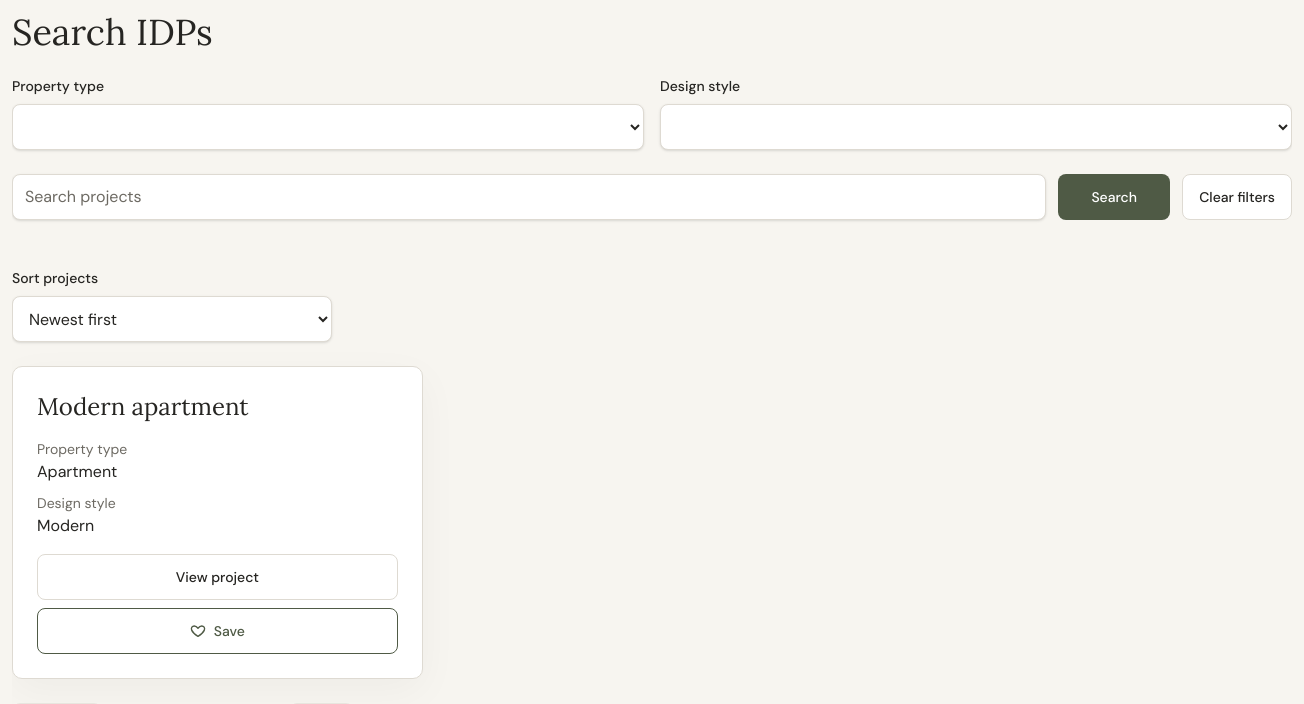
Test: every project card can be saved, and the card shows Saved afterwards
The width and height of the screenshot is (1304, 704).
Click the button with aria-label "Save Modern apartment to shortlist" at point(217, 631), box [37,608,398,654]
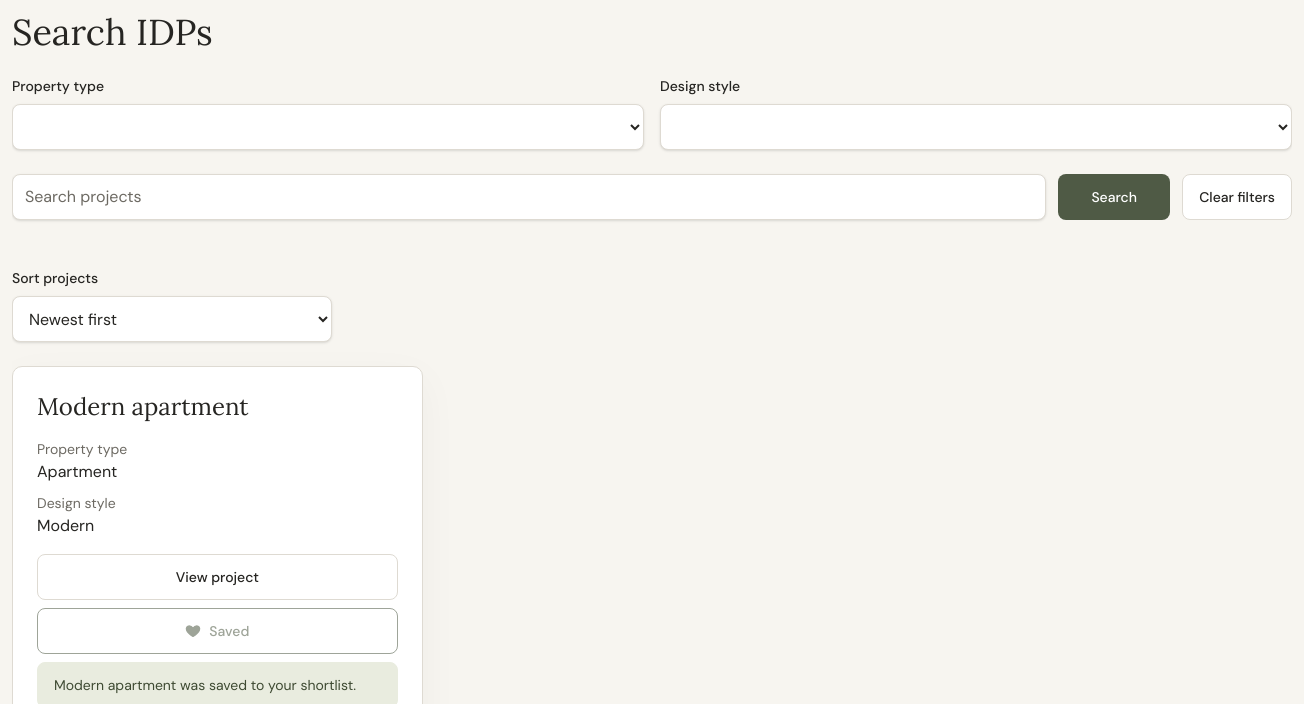
expect the button with aria-label "Modern apartment is saved to your shortlist" is disabled: met, box [37,608,398,654]
